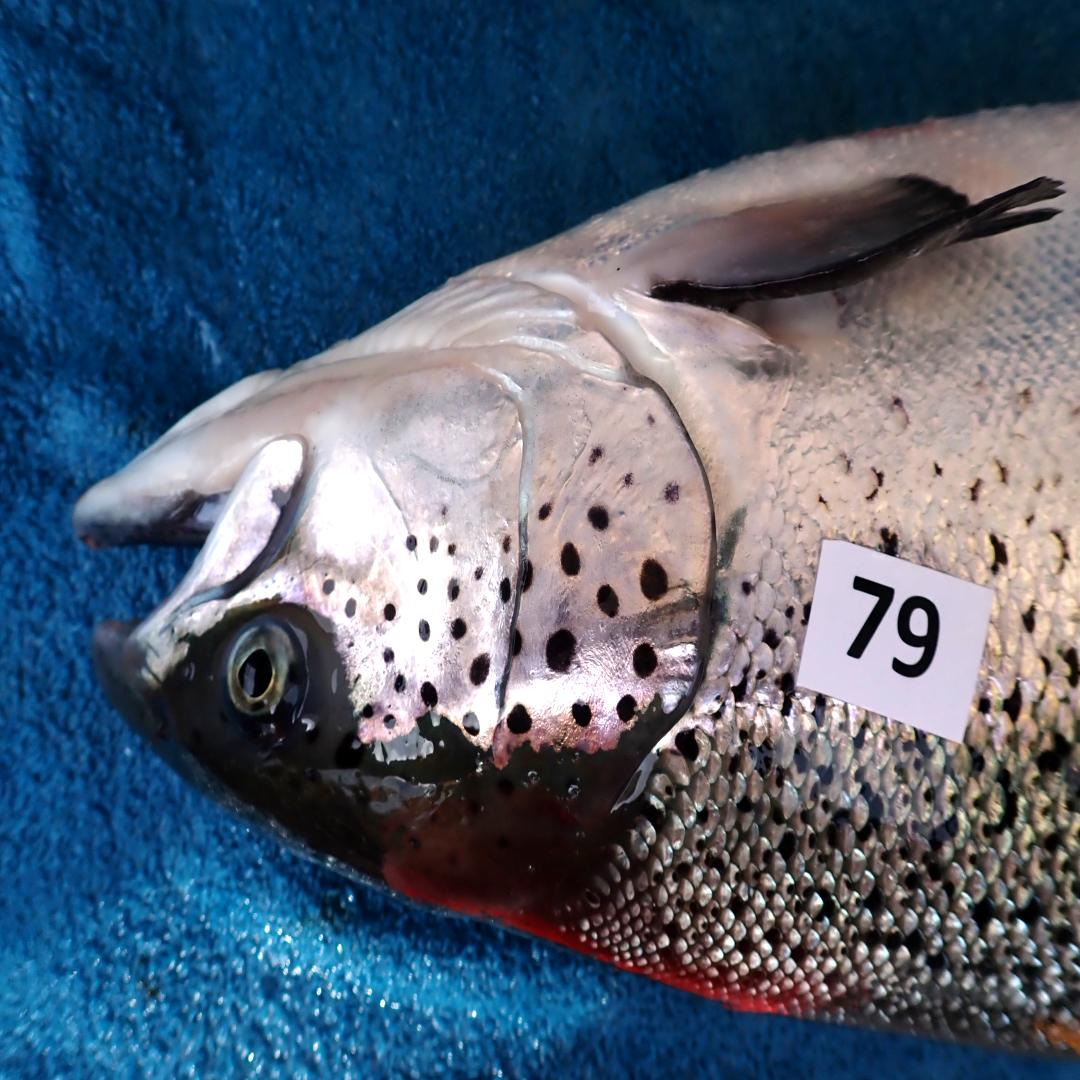roi: (308, 267, 720, 762)
